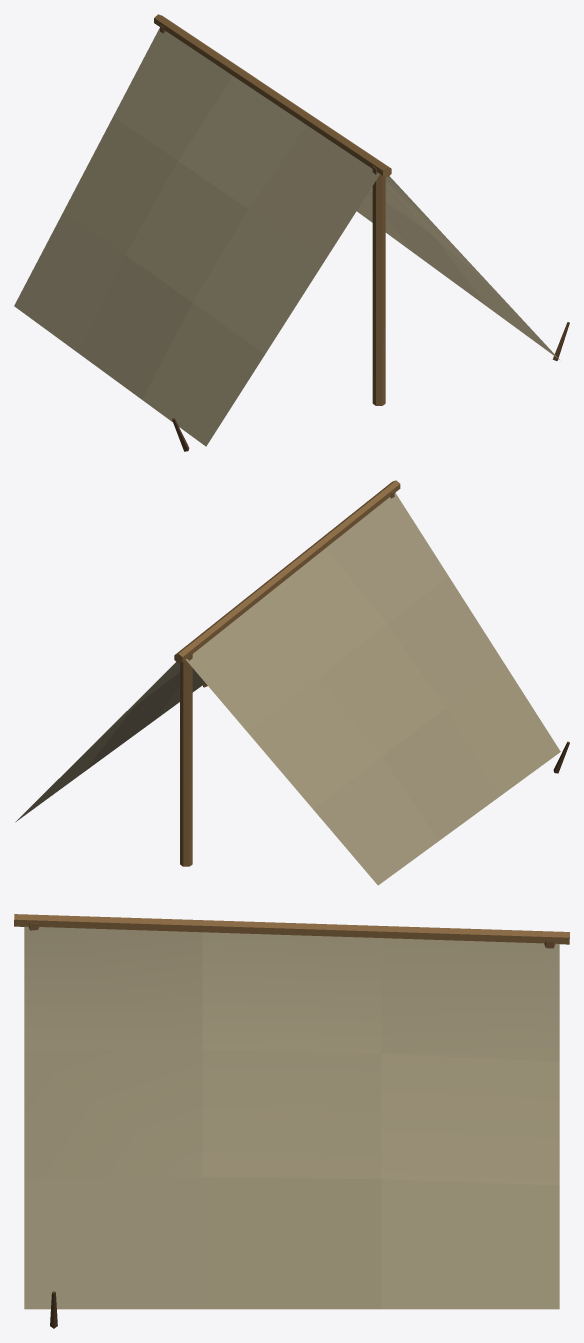
File: Tent.fbx
3 renders of one model, top to bottom at view 1: azimuth 30°, elevation 25°; view 2: azimuth 150°, elevation 25°; view 3: azimuth 270°, elevation 25°, orthographic. The views are drawn at different scales.
Parts seen in each view (by area): view 1: Tent; view 2: Tent; view 3: Tent.
Part boxes in pixels (x1,y1,x2,y2): Tent: [14, 14, 569, 451]; Tent: [15, 480, 569, 885]; Tent: [14, 914, 569, 1328].
Size of the model in its own units: 2.81 by 1.69 by 2.8.
